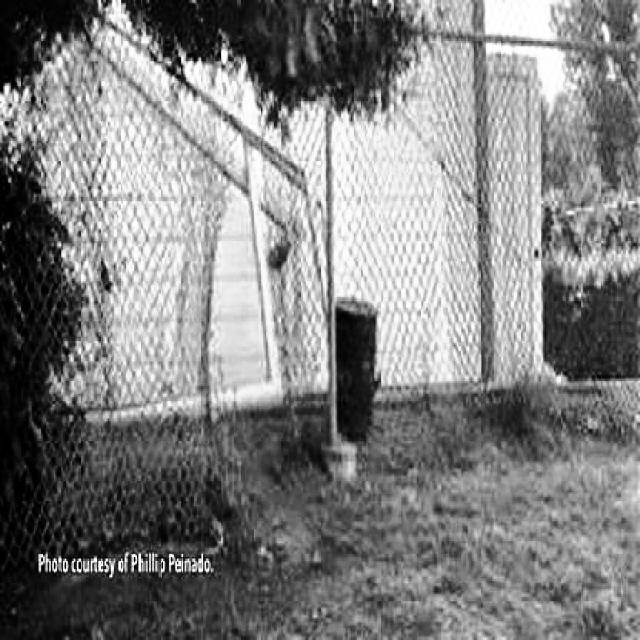anomaly-fence: (157, 134, 333, 538)
